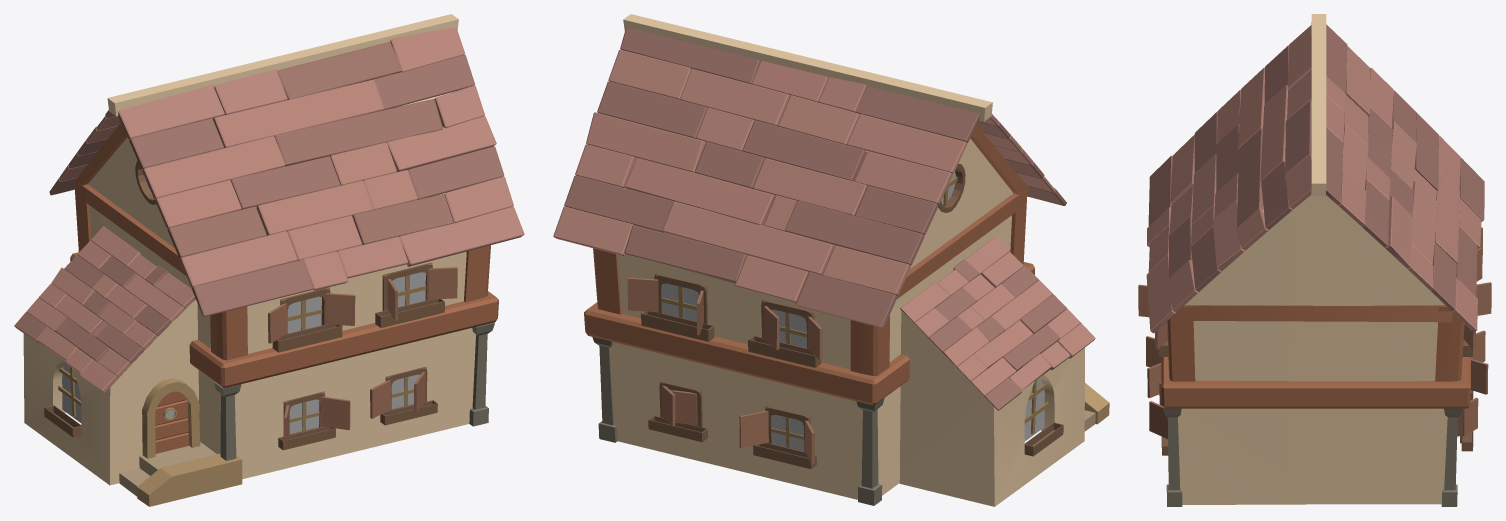
Rendered from Maison_01.fbx.
The picture shows the model from 3 angles, left to right: view 1: azimuth 30°, elevation 25°; view 2: azimuth 150°, elevation 25°; view 3: azimuth 270°, elevation 25°; orthographic projection. The views are drawn at different scales.
Visible parts, largest first — view 1: Maison_01; view 2: Maison_01; view 3: Maison_01.
Boxes of the visible parts, bbox=[...] form: Maison_01: bbox=[14, 14, 524, 506]; Maison_01: bbox=[553, 14, 1109, 506]; Maison_01: bbox=[1138, 14, 1491, 506].
Size of the model in its own units: 1215 by 992 by 921.
1 material, 1 textured.
